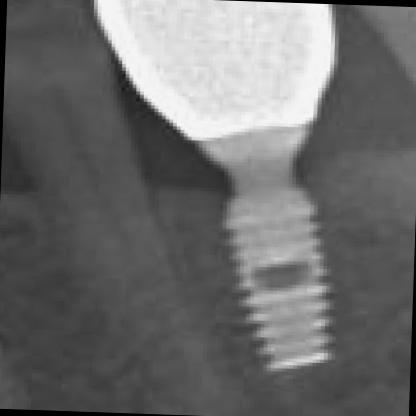Bicon: (209, 192, 334, 375)
